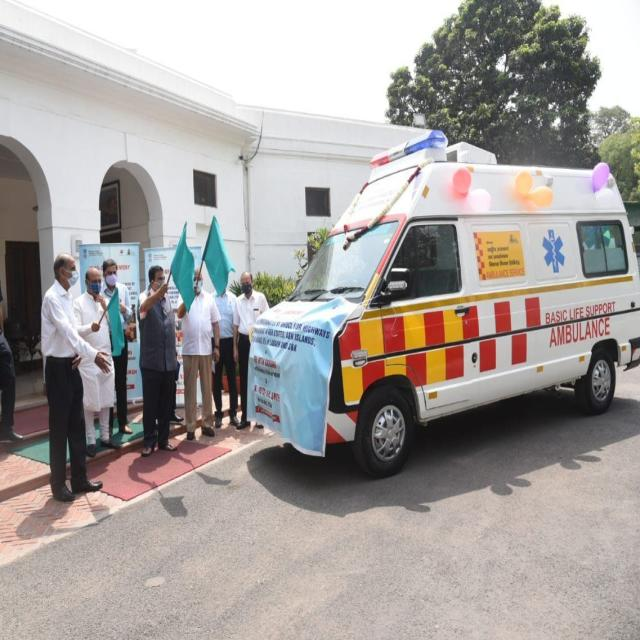emergency: (249, 130, 640, 477)
